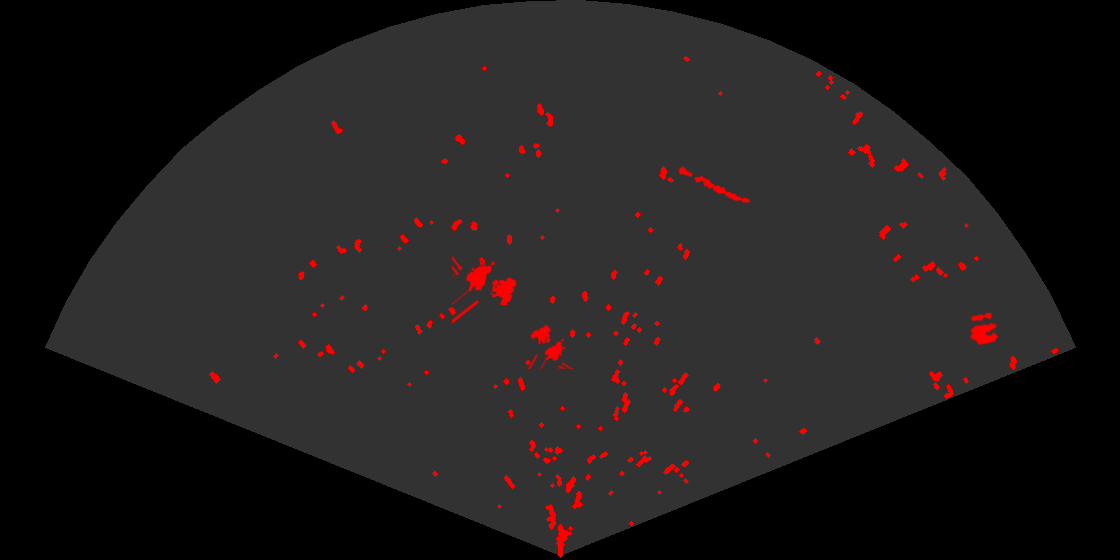ball: (969, 311, 1000, 347)
cage: (452, 254, 518, 323), (526, 323, 575, 369)
chain: (670, 163, 752, 204)
